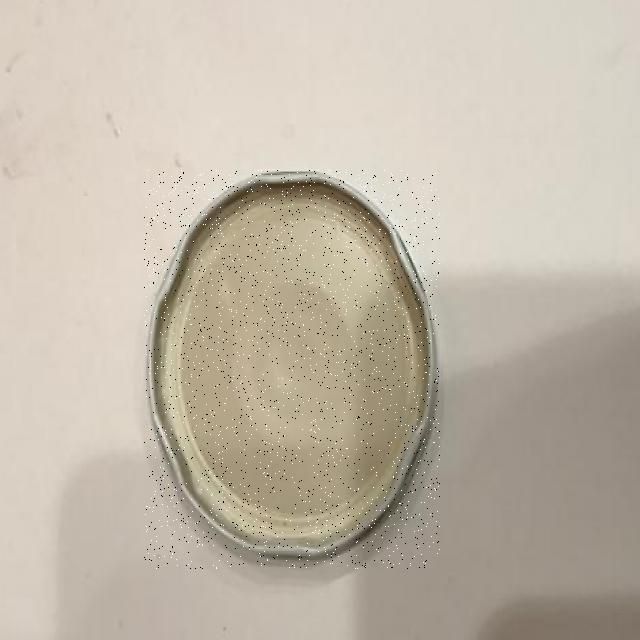metal: (145, 171, 440, 569)
